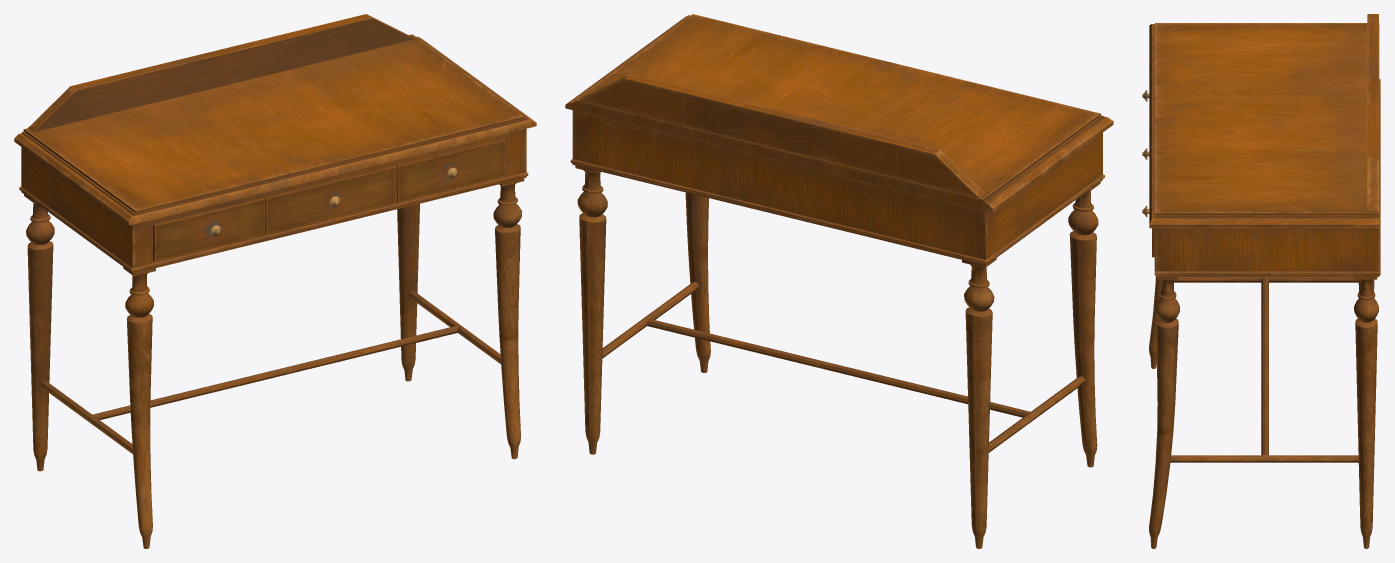
File: table.fbx
3 views of the same model, side by side, from view 1: azimuth 30°, elevation 25°; view 2: azimuth 150°, elevation 25°; view 3: azimuth 270°, elevation 25° (orthographic). The views are drawn at different scales.
Parts seen in each view (by area): view 1: Base, 01_2, 01_1, 01_3; view 2: Base; view 3: Base.
Part boxes in pixels (x1,y1,x2,y2): Base: (14, 14, 536, 548); 01_2: (264, 165, 396, 234); 01_1: (153, 197, 265, 261); 01_3: (396, 139, 505, 202); Base: (565, 14, 1113, 548); Base: (1149, 14, 1380, 548).
Size of the model in its own units: 1.86 by 0.9377 by 1.61.
Materials: 2 (2 with a texture image).
